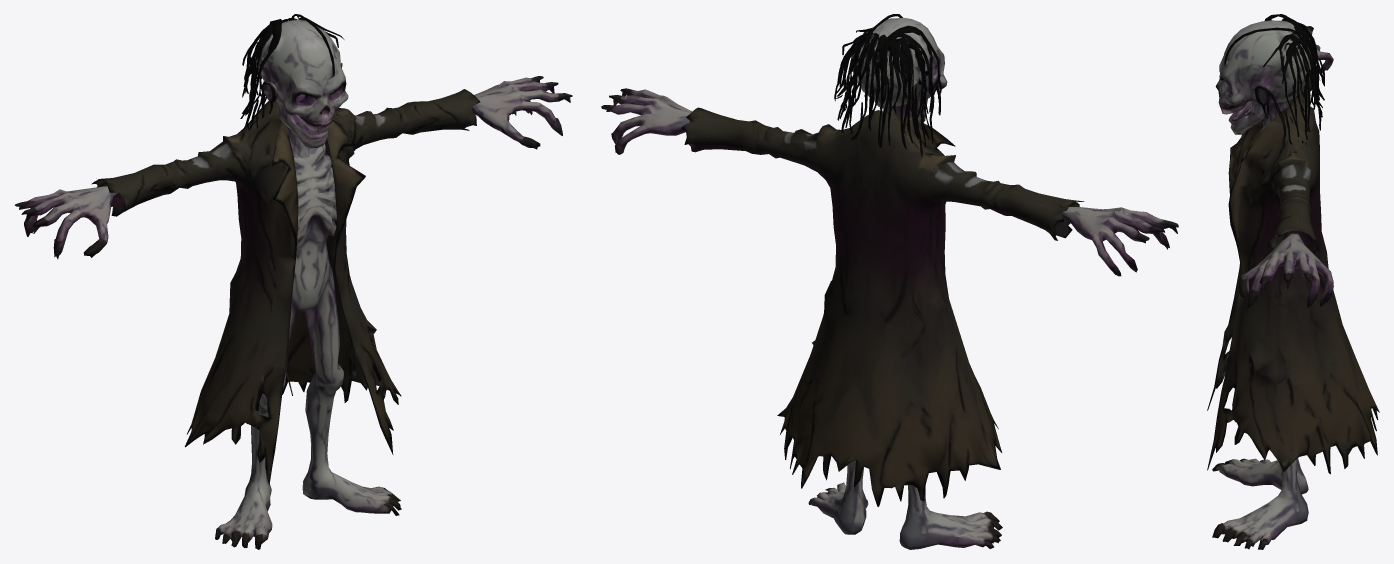
File: TongueZombie.fbx
The picture shows the model from 3 angles, left to right: view 1: azimuth 30°, elevation 25°; view 2: azimuth 150°, elevation 25°; view 3: azimuth 270°, elevation 25°; orthographic projection. The views are drawn at different scales.
Visible parts, largest first — view 1: TongueZombie; view 2: TongueZombie; view 3: TongueZombie.
Boxes of the visible parts, x1=… form: TongueZombie: x1=14, y1=14, x2=572, y2=549; TongueZombie: x1=601, y1=14, x2=1178, y2=549; TongueZombie: x1=1207, y1=14, x2=1379, y2=549.
Size of the model in its own units: 2.17 by 1.9 by 0.6106.
1 material, 1 textured.
